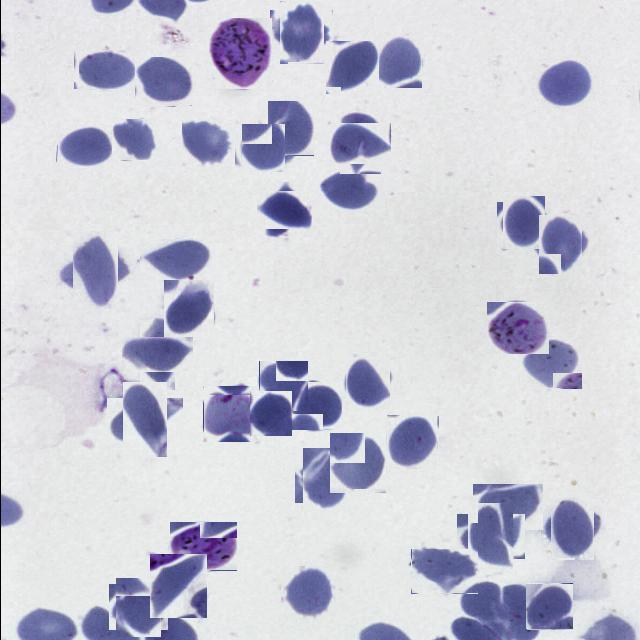difficult: (168, 522, 236, 571)
gametocyte: (208, 18, 271, 89)
red blood cell: (64, 239, 125, 301), (149, 554, 206, 618), (114, 390, 174, 450), (328, 434, 387, 492), (472, 484, 542, 530), (518, 339, 581, 389), (298, 452, 354, 508), (462, 508, 518, 564), (139, 239, 213, 280), (410, 549, 477, 594), (133, 56, 193, 106), (274, 5, 328, 60), (544, 501, 598, 555), (161, 282, 215, 336), (324, 41, 378, 94), (111, 580, 164, 634), (533, 60, 592, 108), (384, 416, 438, 468), (130, 328, 184, 380), (282, 568, 334, 620), (534, 218, 586, 270), (72, 50, 138, 90), (266, 101, 313, 156), (290, 380, 340, 431), (334, 118, 385, 168), (372, 36, 422, 86), (258, 361, 307, 412), (181, 120, 234, 167), (317, 170, 378, 210), (55, 126, 113, 168), (342, 359, 391, 408), (499, 199, 547, 247), (260, 186, 306, 234), (526, 584, 572, 630), (239, 125, 285, 171), (112, 118, 155, 162), (249, 391, 291, 436)
ring: (202, 386, 258, 442)
trophozoite: (486, 302, 548, 354)
